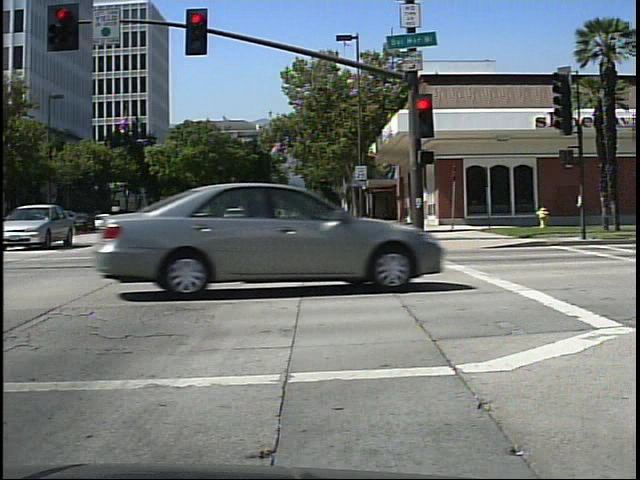person: (274, 204, 287, 223)
